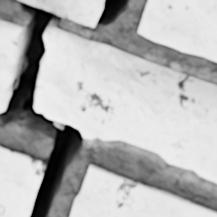brick: (70, 163, 216, 216), (138, 0, 216, 60), (0, 144, 46, 216), (22, 0, 103, 25)
broken_brick: (35, 27, 216, 180), (0, 20, 22, 110)
crack: (0, 0, 83, 216), (97, 0, 129, 24)
